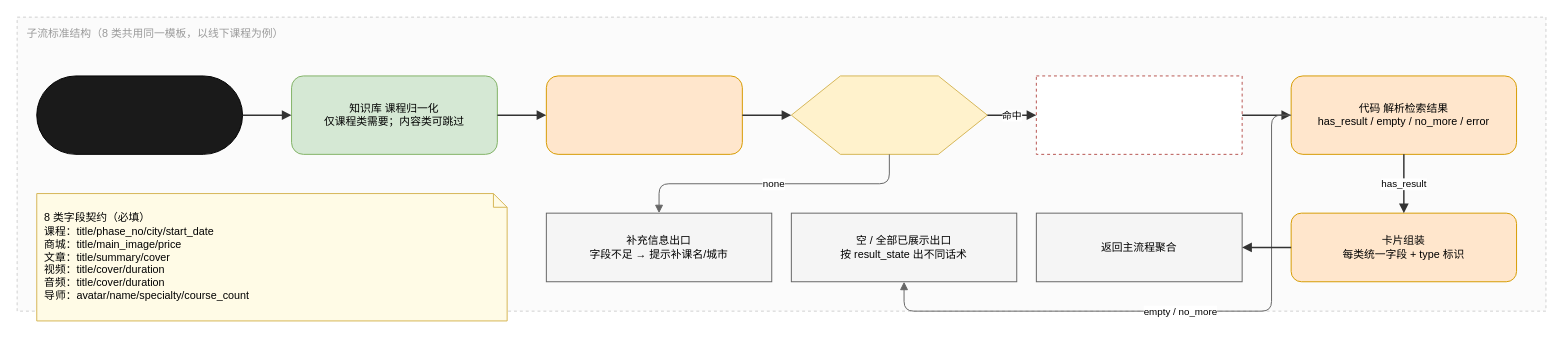
Image size: 1563x338. Some labels were removed from this diagram. Each missing label, with the box of its shape:
HTTP 检索接口 URL / 参数：待开发提供: (1035, 75, 1242, 154)
代码 解析归一化结果 course_id / 全称 / 亮点: (545, 75, 742, 154)
判断 是否可直接检索 single / multiple / none: (790, 75, 987, 154)
子流入口 继承 intents / slots / shown_ids: (36, 75, 243, 154)
